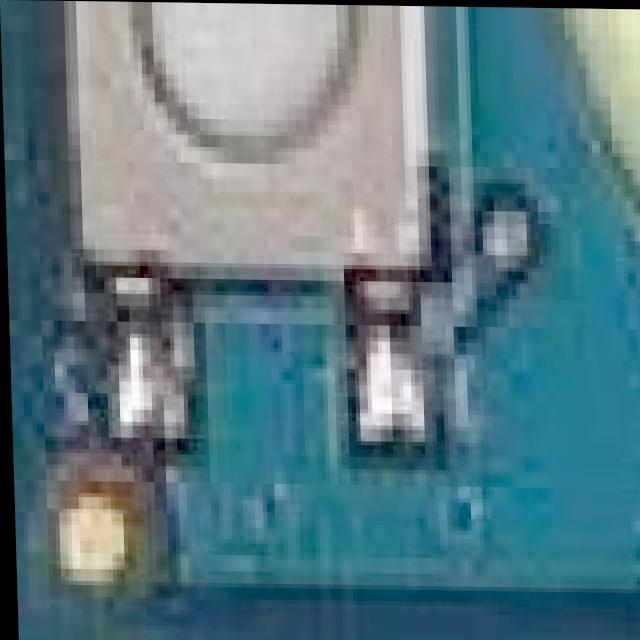battery: (548, 6, 640, 563)
switch: (60, 1, 467, 457)
